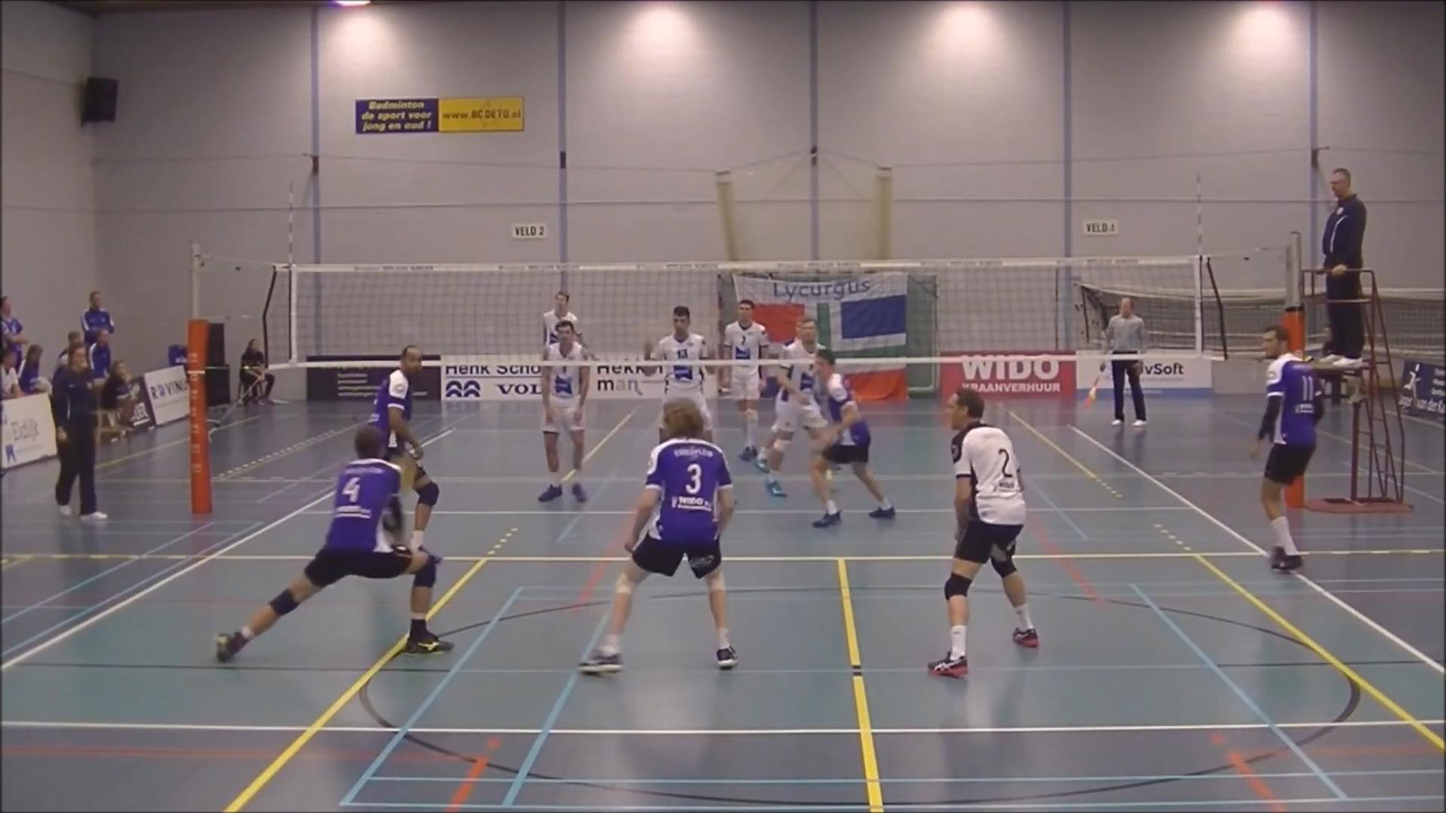Player: (579, 400, 737, 673), (929, 388, 1039, 677), (1250, 326, 1323, 572), (809, 348, 895, 528), (370, 346, 439, 549), (755, 317, 826, 496), (538, 320, 590, 501), (645, 305, 712, 441), (718, 299, 769, 461), (542, 291, 578, 346)
Receive: (210, 421, 459, 672)
